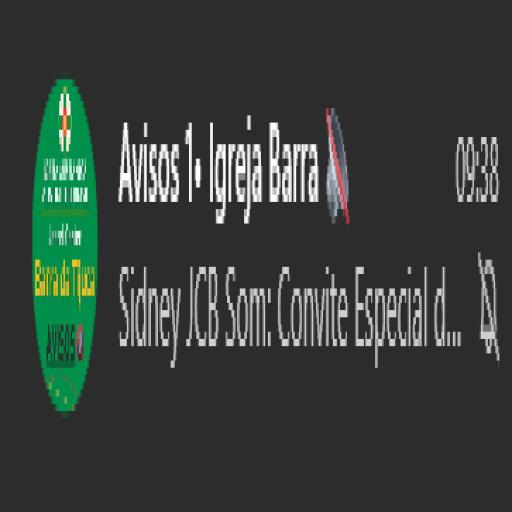mensagem-recebida: (0, 0, 511, 505)
